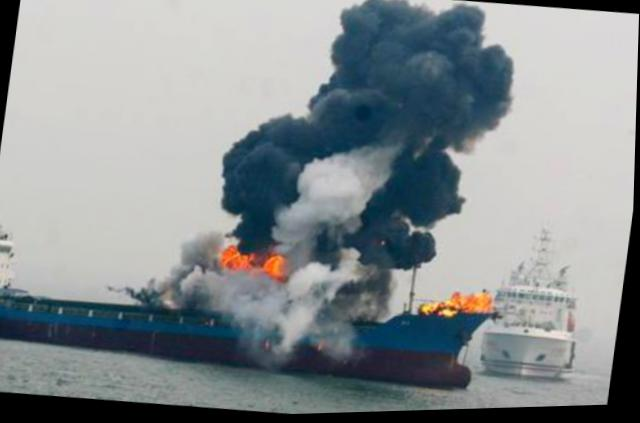fire: (225, 246, 257, 274), (465, 290, 496, 315), (426, 300, 464, 320), (263, 254, 287, 276)
